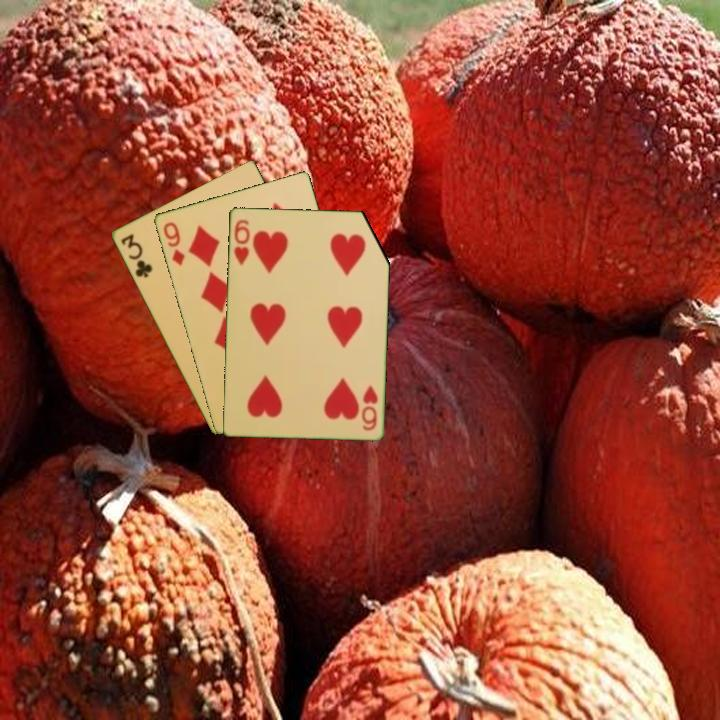3c: (117, 230, 155, 281)
6h: (358, 381, 381, 433), (230, 216, 252, 268)
9d: (159, 218, 187, 269)
